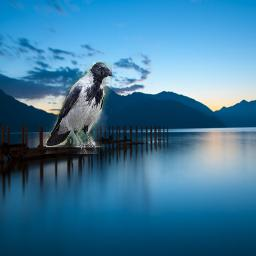Crow: (46, 62, 112, 154)
